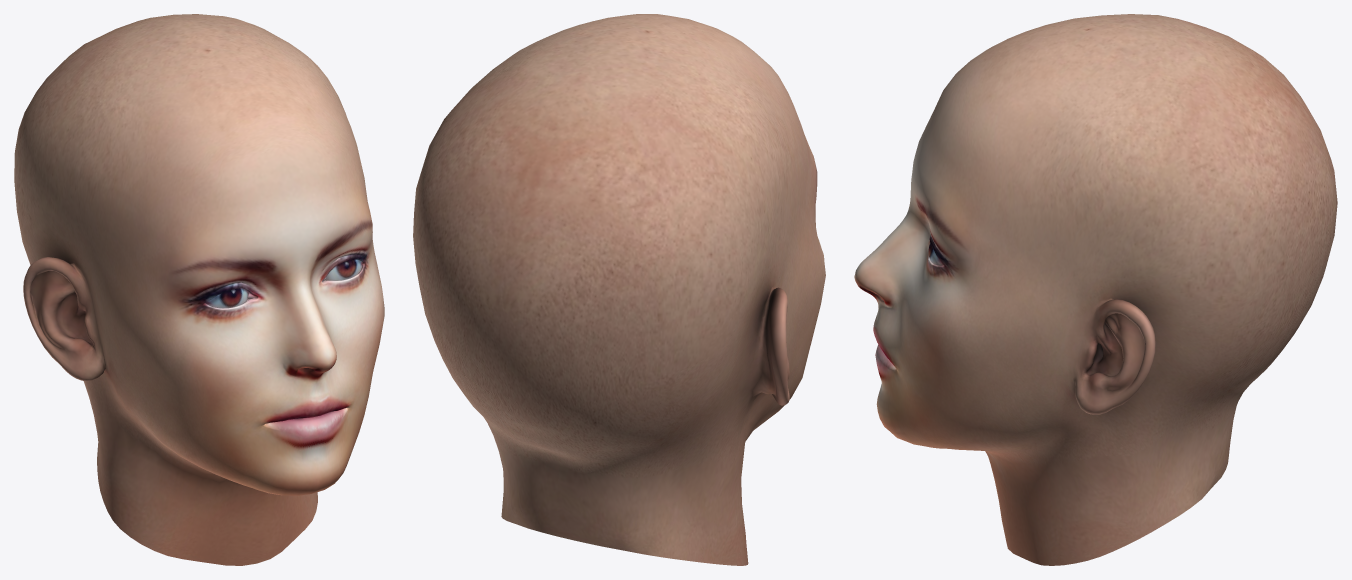
3 views of the same model, side by side, from view 1: azimuth 30°, elevation 25°; view 2: azimuth 150°, elevation 25°; view 3: azimuth 270°, elevation 25° (orthographic). The views are drawn at different scales.
Visible parts, largest first — view 1: Head; view 2: Head; view 3: Head.
Part boxes in pixels (box(x1,y1,x2,y2)): Head: box(14, 14, 384, 565); Head: box(413, 14, 825, 565); Head: box(854, 14, 1337, 565).
Size of the model in its own units: 0.1907 by 0.2743 by 0.2355.
Materials: 1 (1 with a texture image).
